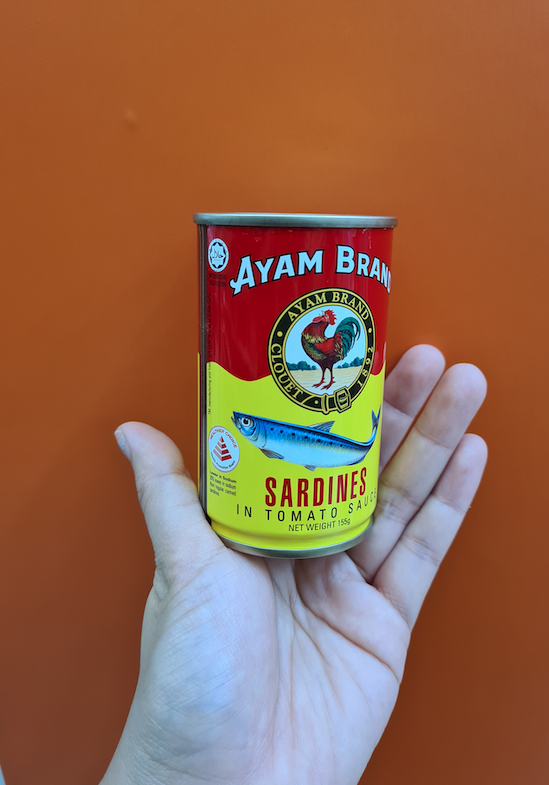Canned_Sardines_and_Mackerel: (198, 215, 380, 537)
